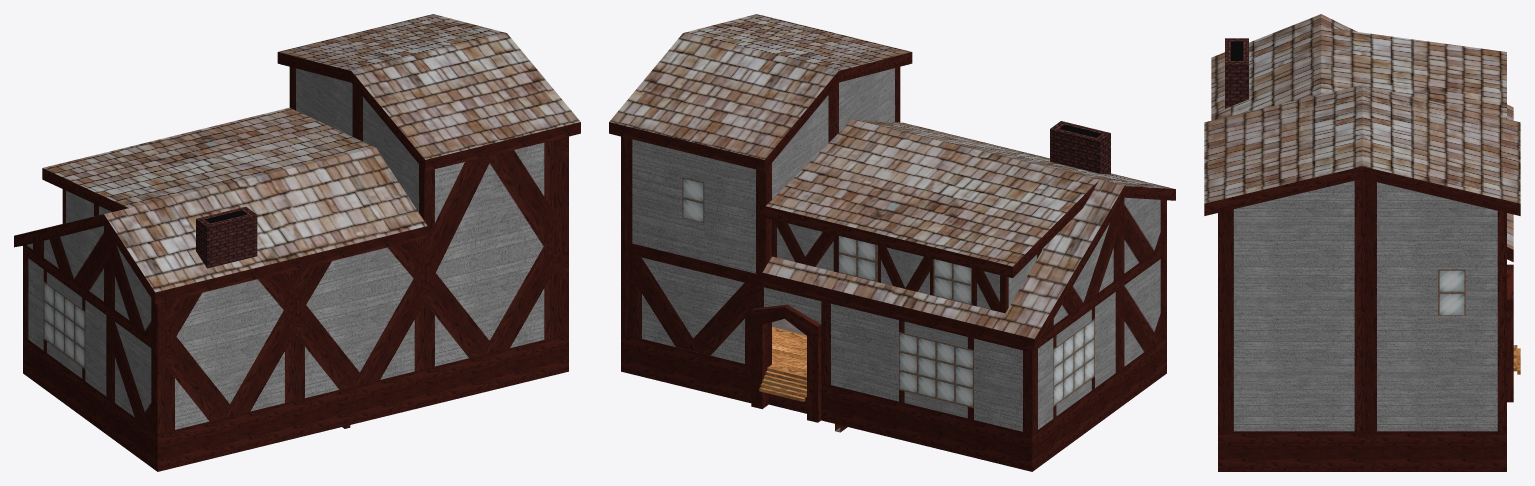
The model's file is newtav.gltf.
The picture shows the model from 3 angles, left to right: view 1: azimuth 30°, elevation 25°; view 2: azimuth 150°, elevation 25°; view 3: azimuth 270°, elevation 25°; orthographic projection. The views are drawn at different scales.
Parts seen in each view (by area): view 1: newtav; view 2: newtav; view 3: newtav.
Part boxes in pixels (bbox=[...]): newtav: bbox=[14, 14, 580, 471]; newtav: bbox=[609, 14, 1175, 471]; newtav: bbox=[1204, 14, 1520, 471].
Bounding box in the file's own units: 38 × 30.5 × 23.
35 materials, 35 textured.
